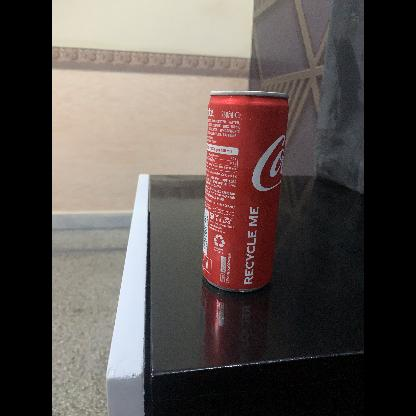Tin_Can: (196, 86, 292, 300)
